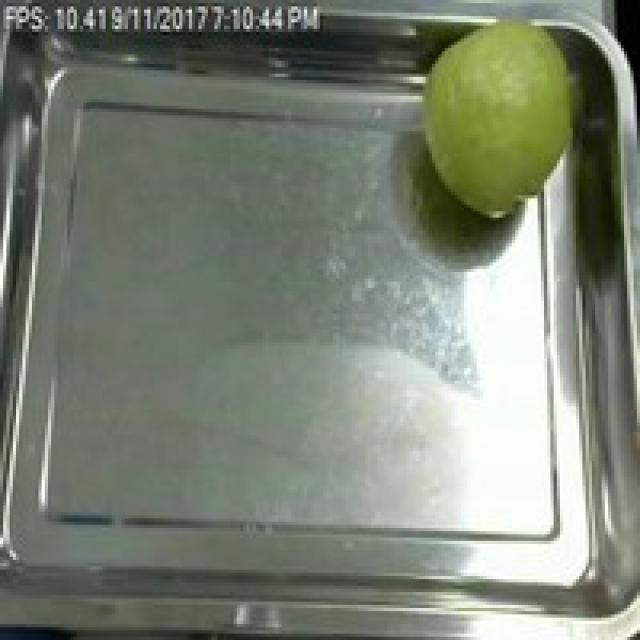Fruit: (404, 9, 598, 230)
